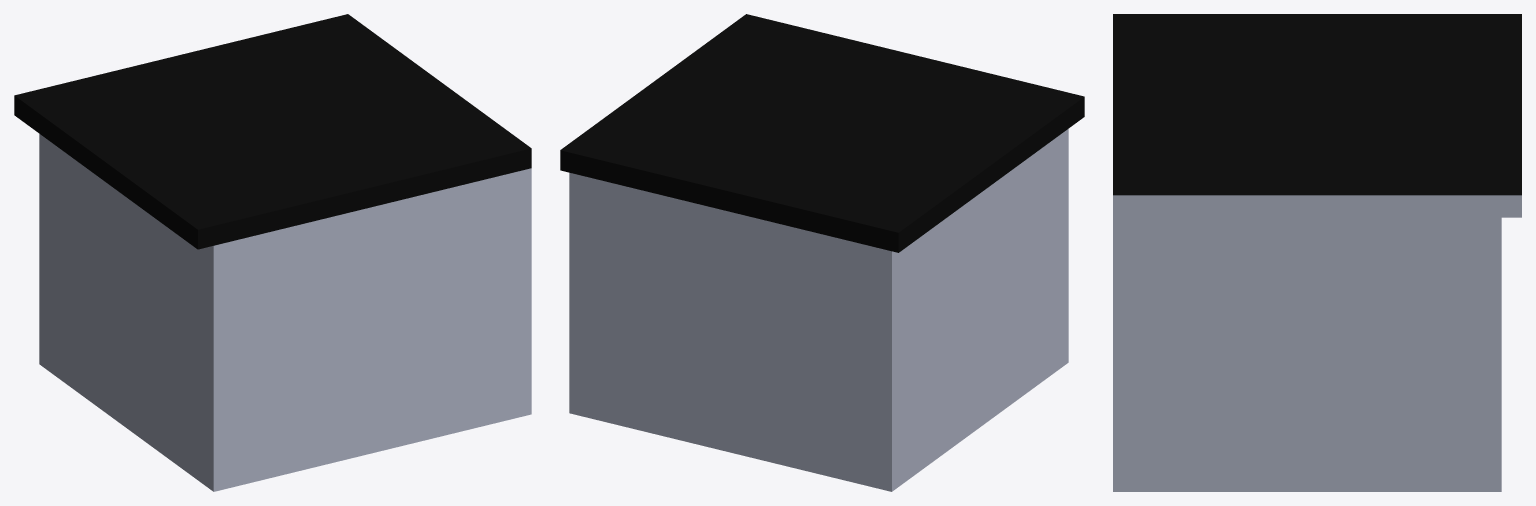
Rendered from Def right.fbx.
The picture shows the model from 3 angles, left to right: view 1: azimuth 30°, elevation 25°; view 2: azimuth 150°, elevation 25°; view 3: azimuth 270°, elevation 25°; orthographic projection. The views are drawn at different scales.
Parts seen in each view (by area): view 1: Cube.003; view 2: Cube.003; view 3: Cube.003.
Part boxes in pixels (x1,y1,x2,y2): Cube.003: (14, 14, 531, 491); Cube.003: (560, 14, 1084, 491); Cube.003: (1113, 14, 1521, 491).
Bounding box in the file's own units: 210 × 160 × 200.
